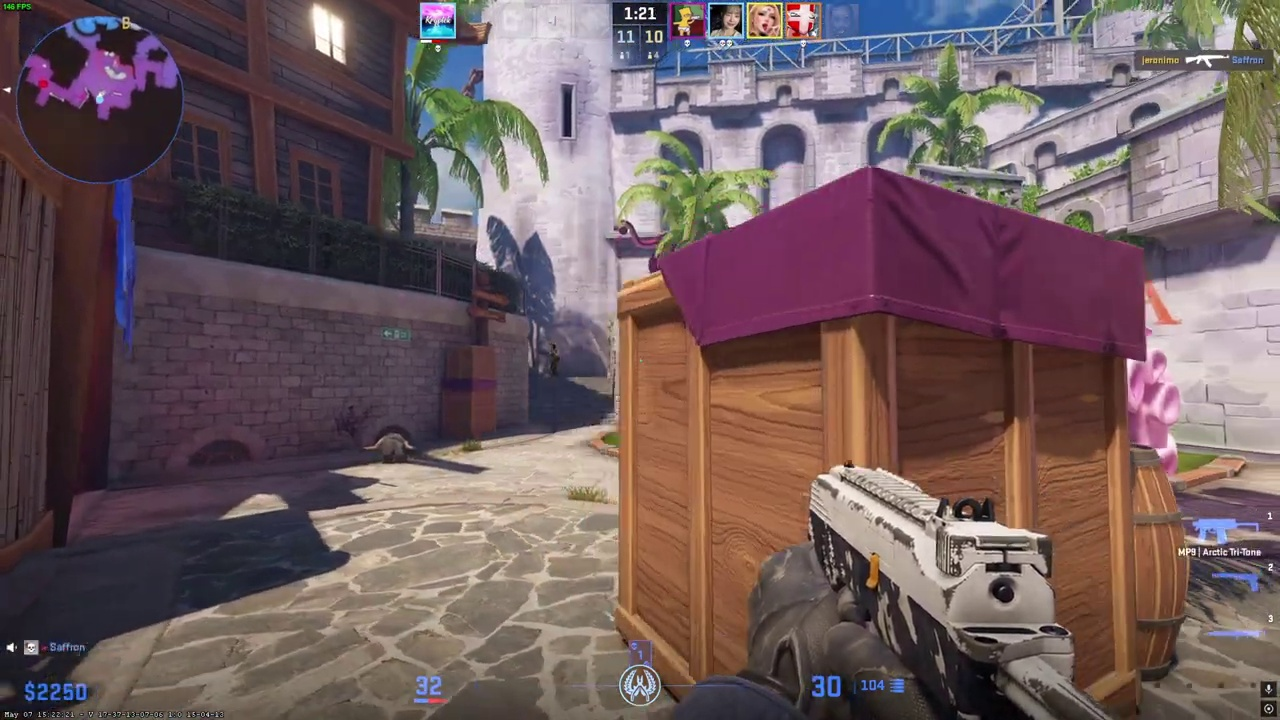Terrorist: (548, 344, 560, 377)
